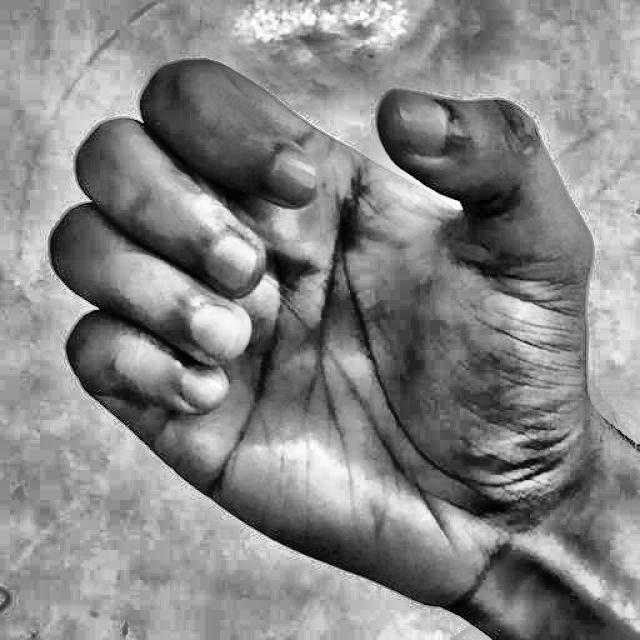Dho: (35, 32, 605, 624)
